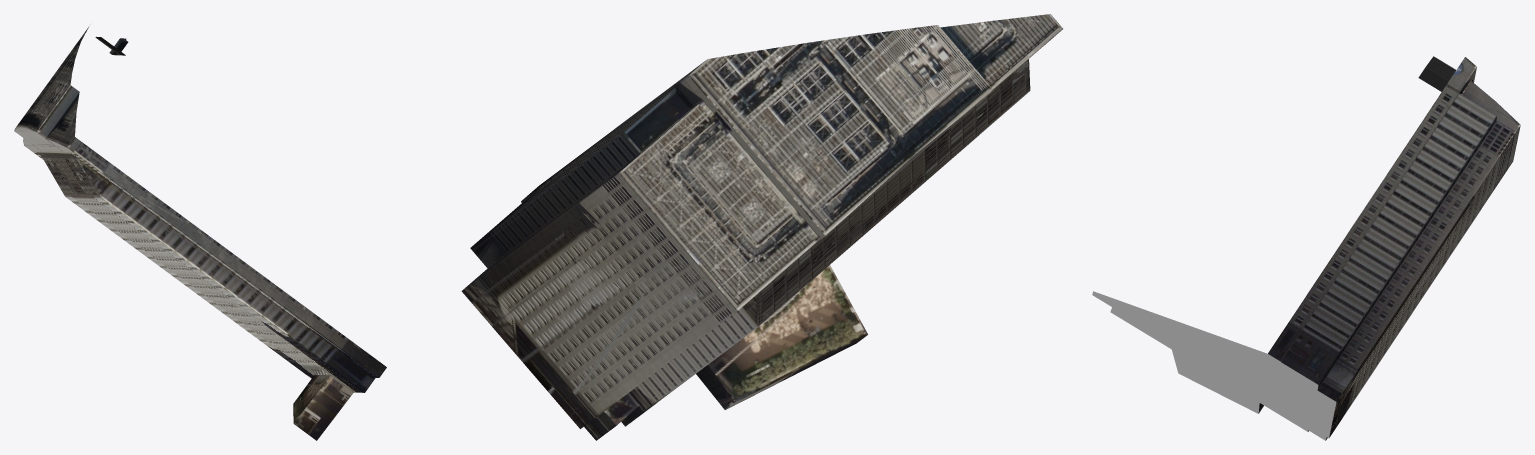
File: 19775_bldg_Building.glb
The picture shows the model from 3 angles, left to right: view 1: azimuth 30°, elevation 25°; view 2: azimuth 150°, elevation 25°; view 3: azimuth 270°, elevation 25°; orthographic projection. The views are drawn at different scales.
Bounding box in the file's own units: 116 × 104 × 127.
Materials: 3 (2 with a texture image).
